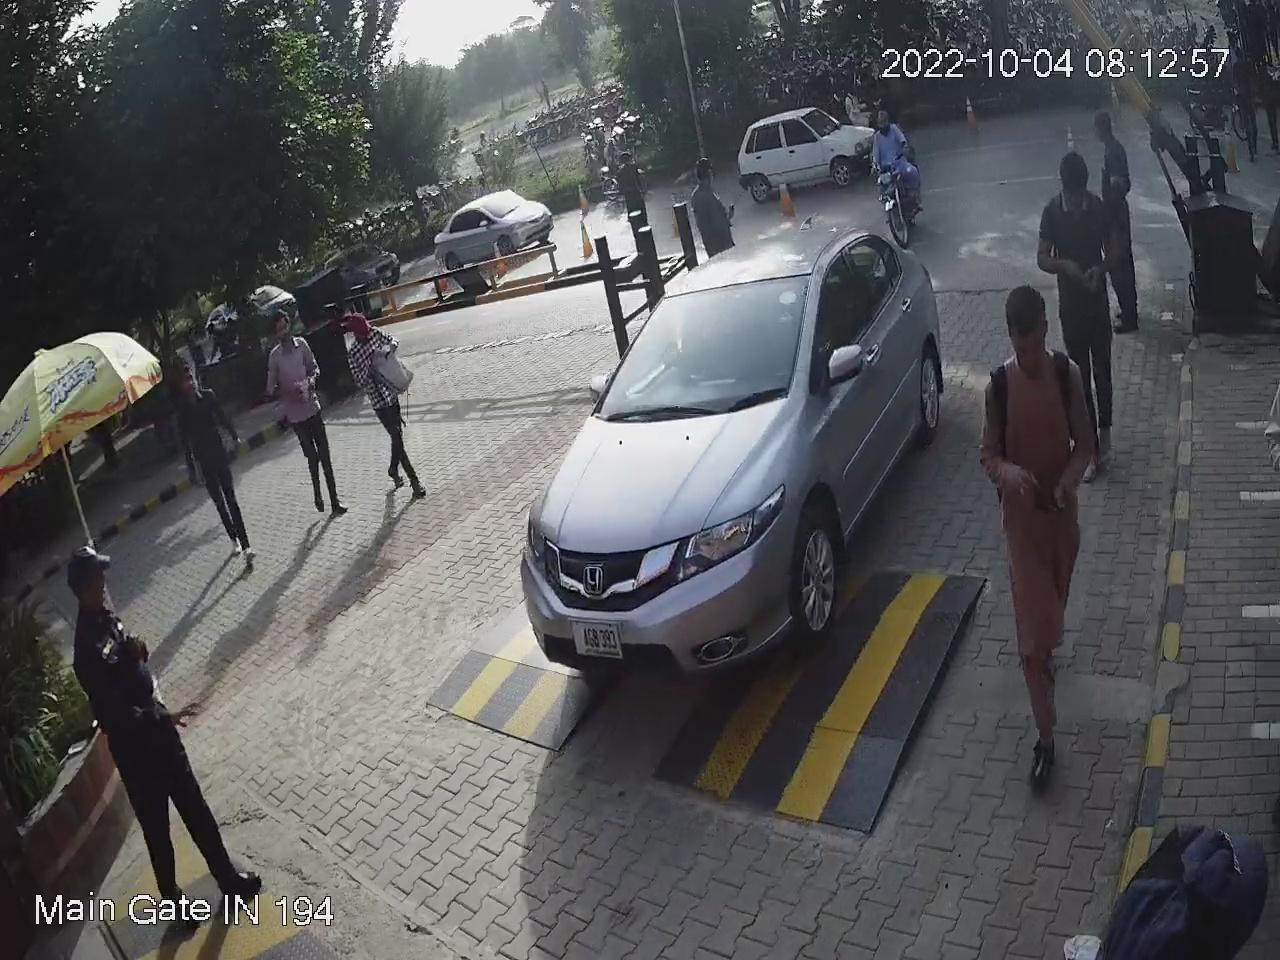windshield: (593, 262, 811, 412)
